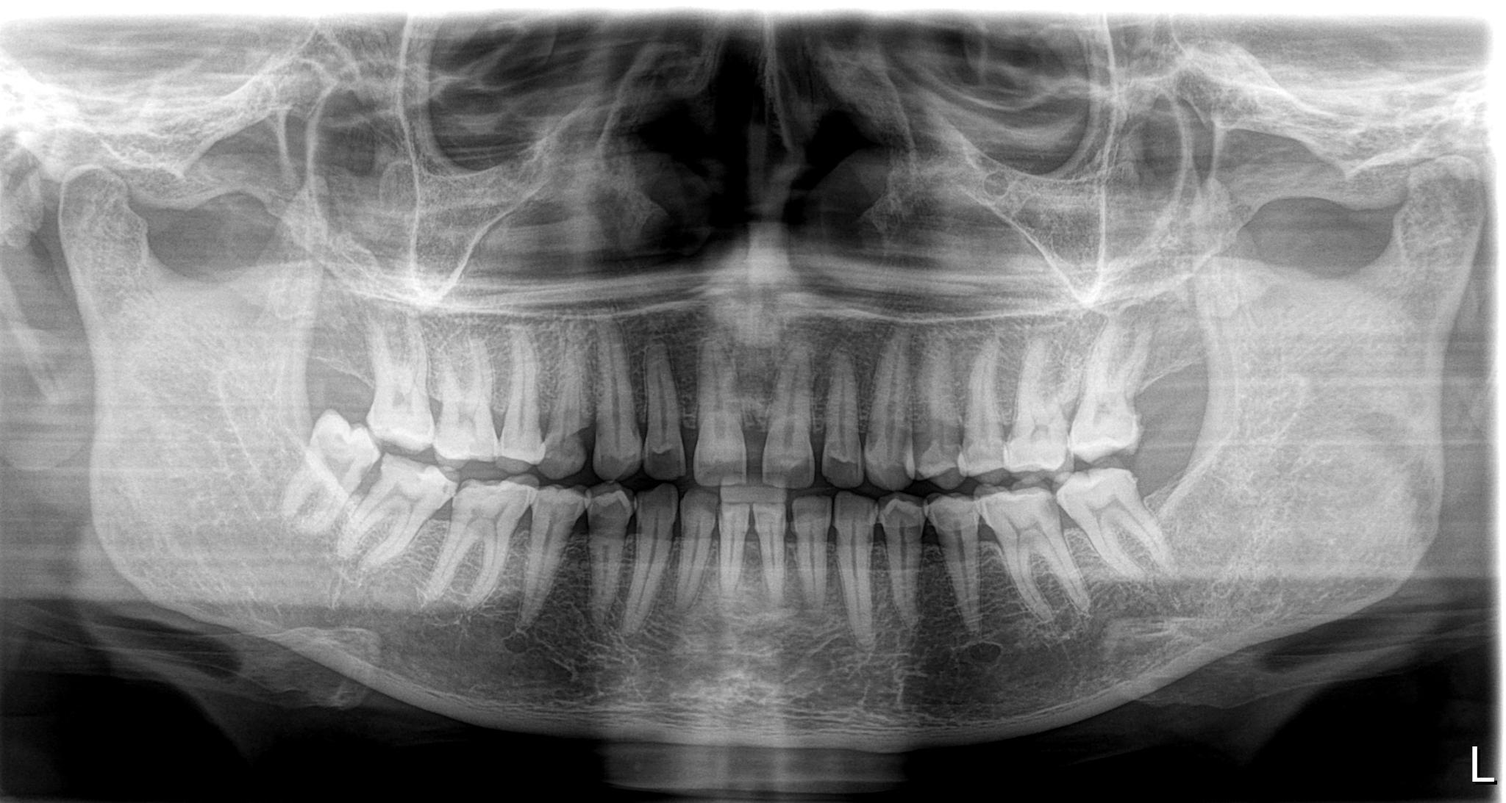Dental Caries: (546, 439, 588, 474)
Impacted Third Molar: (305, 413, 368, 537)
Missing Tooth: (307, 303, 373, 409), (1151, 468, 1195, 554), (1149, 332, 1191, 416)
